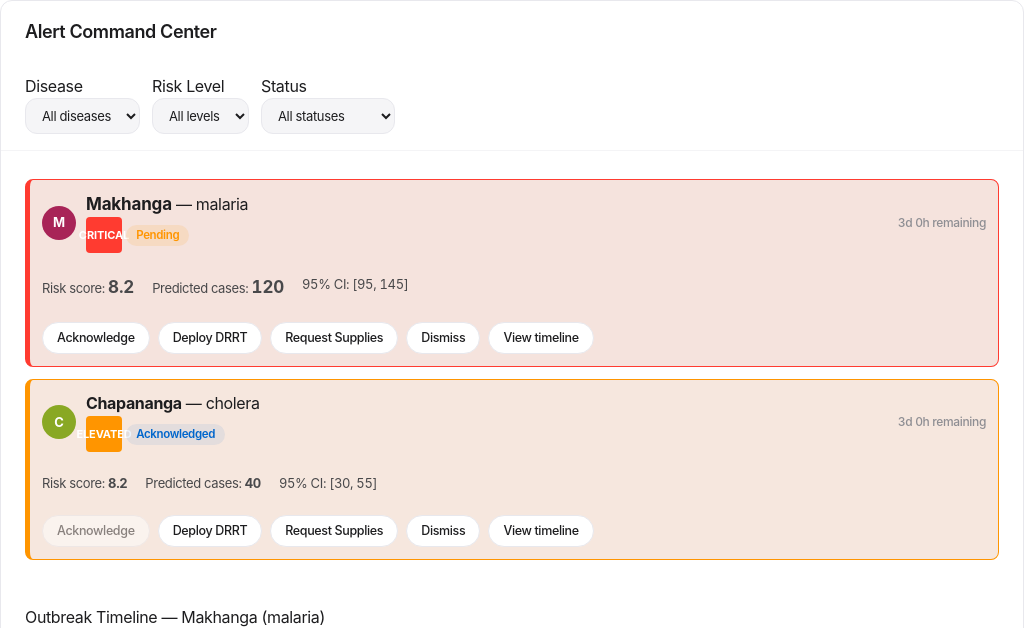
AlertCommandCenter › offers clear-filters recovery from the filtered empty state
Select "measles" in the dropdown labelled "Disease" at (82, 116), box x1=25 y1=98 x2=140 y2=134
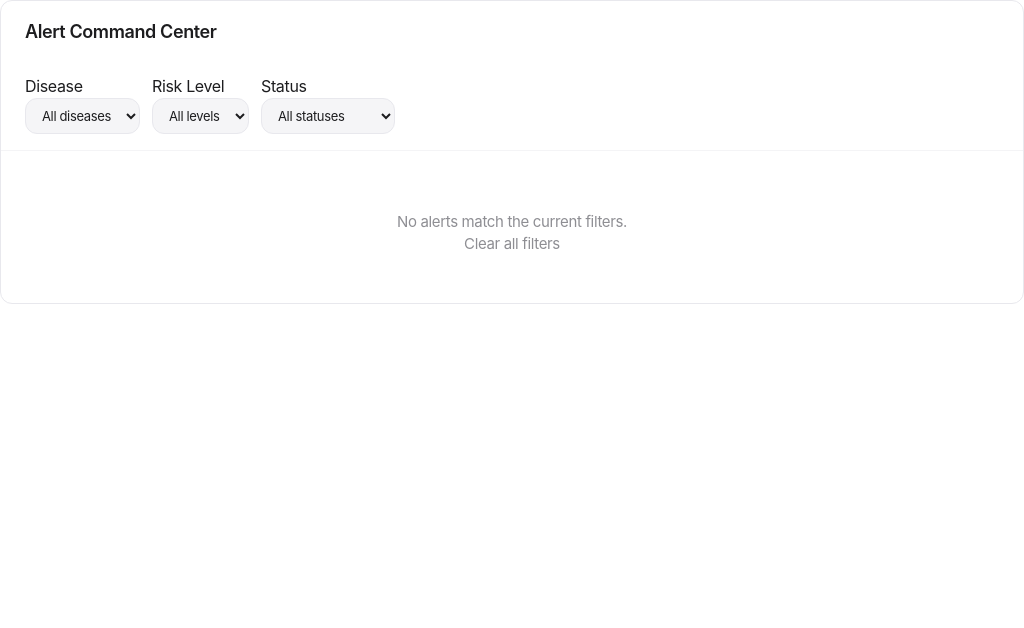
Now the text "No alerts match the current filters." is shown, box x1=397 y1=212 x2=627 y2=231
Click the button "Clear all filters" at (512, 244), box x1=464 y1=233 x2=560 y2=255
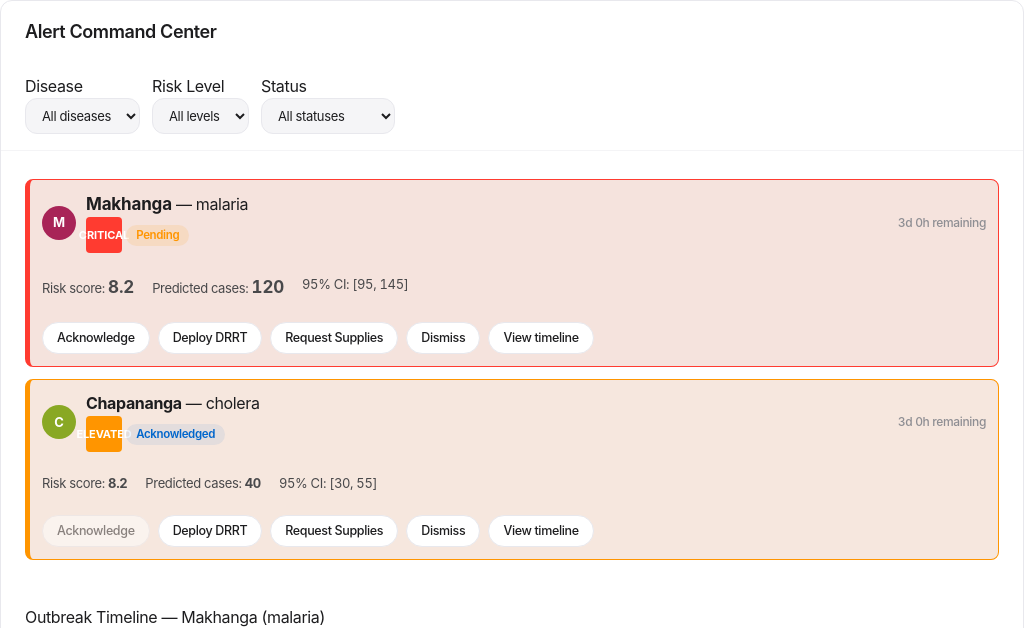
Now the text "Makhanga" is shown, box x1=86 y1=194 x2=172 y2=214
Now the button "Clear all filters" is gone
